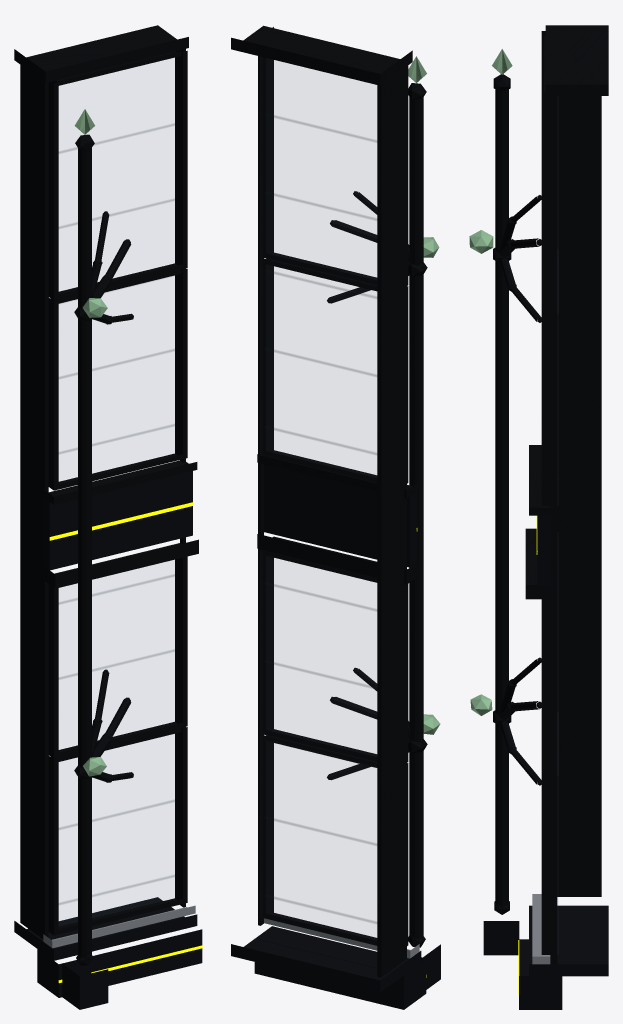
The picture shows the model from 3 angles, left to right: view 1: azimuth 30°, elevation 25°; view 2: azimuth 150°, elevation 25°; view 3: azimuth 270°, elevation 25°; orthographic projection. The views are drawn at different scales.
Visible parts, largest first — view 1: Frame, Branch_Trunk, Spandrel_Band, Plinth_Ledge, Trunk_Pedestal, Slate_Sill, Fork_Leaves, Glass_20, Glass_00, Glass_10, Glass_30, Spandrel_Court_Line; view 2: Frame, Branch_Trunk, Plinth_Ledge, Spandrel_Band, Glass_20, Glass_00, Glass_30, Glass_10, Fork_Leaves, Slate_Sill, Trunk_Pedestal; view 3: Frame, Branch_Trunk, Plinth_Ledge, Trunk_Pedestal, Fork_Leaves, Spandrel_Band, Slate_Sill.
Part boxes in pixels (x1,y1,x2,y2): Frame: [14, 25, 198, 939]; Branch_Trunk: [74, 134, 133, 965]; Spandrel_Band: [43, 471, 192, 570]; Plinth_Ledge: [14, 897, 202, 997]; Trunk_Pedestal: [62, 963, 108, 1009]; Slate_Sill: [43, 905, 195, 948]; Fork_Leaves: [74, 109, 107, 776]; Glass_20: [59, 276, 174, 454]; Glass_00: [59, 799, 174, 905]; Glass_10: [59, 574, 174, 679]; Glass_30: [59, 123, 174, 229]; Spandrel_Court_Line: [49, 502, 193, 540]; Frame: [231, 25, 422, 977]; Branch_Trunk: [327, 83, 427, 947]; Plinth_Ledge: [231, 926, 426, 1009]; Spandrel_Band: [264, 464, 416, 567]; Glass_20: [260, 259, 376, 455]; Glass_00: [260, 736, 376, 924]; Glass_30: [260, 57, 376, 257]; Glass_10: [260, 551, 376, 733]; Fork_Leaves: [408, 56, 440, 734]; Slate_Sill: [264, 918, 419, 958]; Trunk_Pedestal: [407, 944, 440, 989]; Frame: [525, 25, 608, 964]; Branch_Trunk: [493, 74, 541, 914]; Plinth_Ledge: [519, 905, 608, 1009]; Trunk_Pedestal: [483, 921, 519, 955]; Fork_Leaves: [469, 49, 512, 715]; Spandrel_Band: [537, 515, 550, 584]; Slate_Sill: [532, 894, 550, 964].
Size of what is drawn, in the model's own units: 2 by 12.2 by 1.66.
7 materials, 3 textured.
